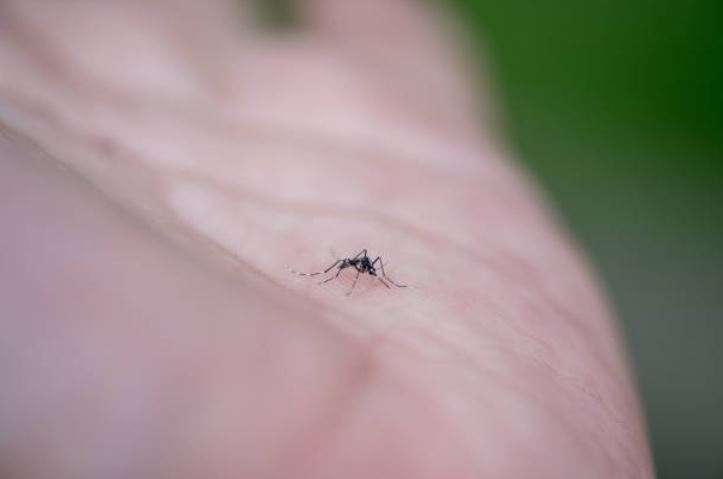dengue_mosquito: (292, 248, 410, 297)
